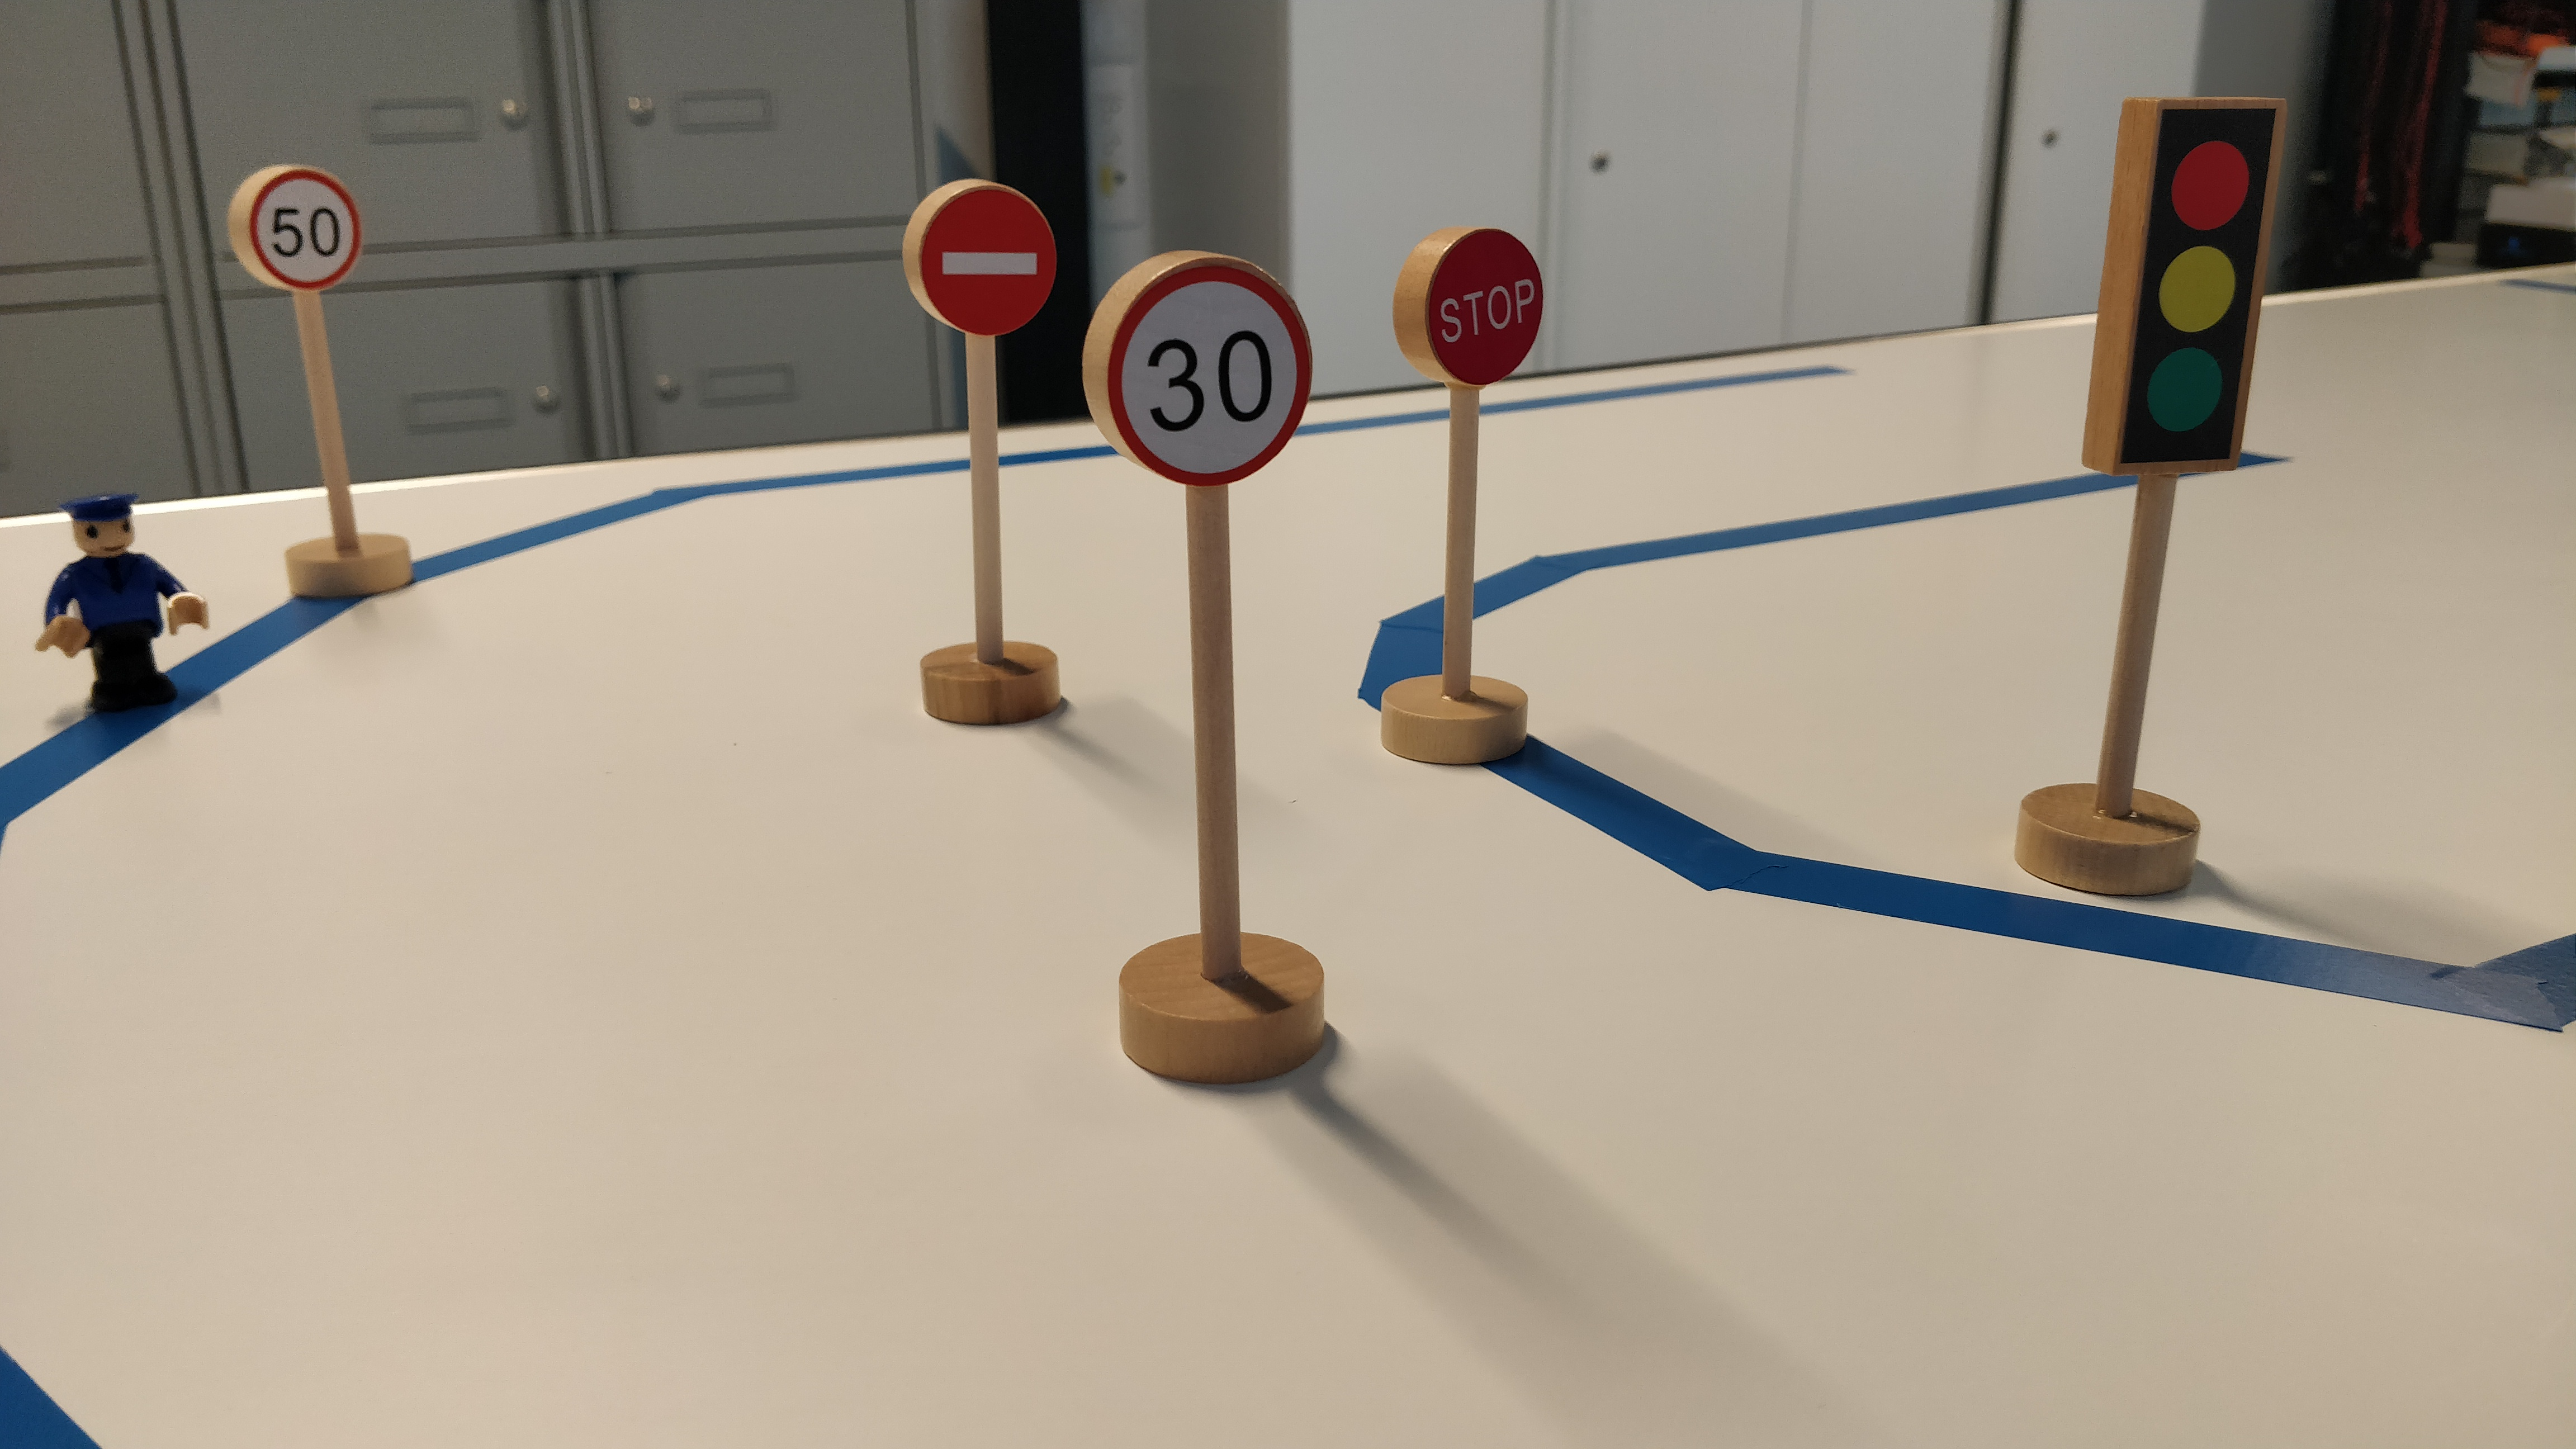Person: (26, 487, 217, 731)
Prohibition Sign: (901, 176, 1061, 337)
Speed Limit 30: (1077, 248, 1318, 494)
Speed Limit 50: (225, 157, 367, 293)
Stop Sign: (1390, 220, 1547, 396)
Traffic Light: (2075, 95, 2294, 484)
